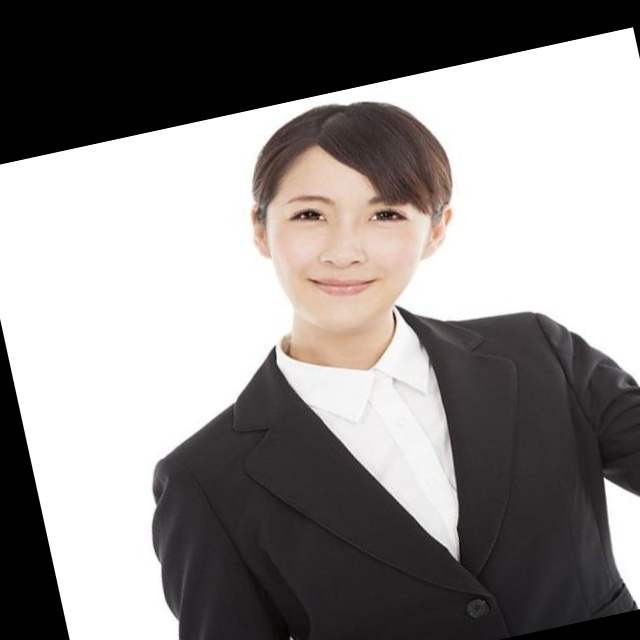Sin_Casco_Mascarrilla: (229, 80, 485, 346)
Sin_Chaleco: (161, 292, 640, 640)
